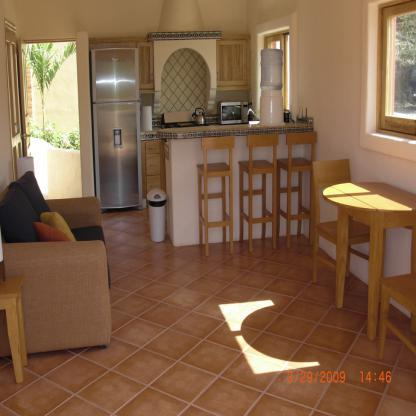door: (18, 38, 34, 156)
lever: (27, 132, 32, 138)
